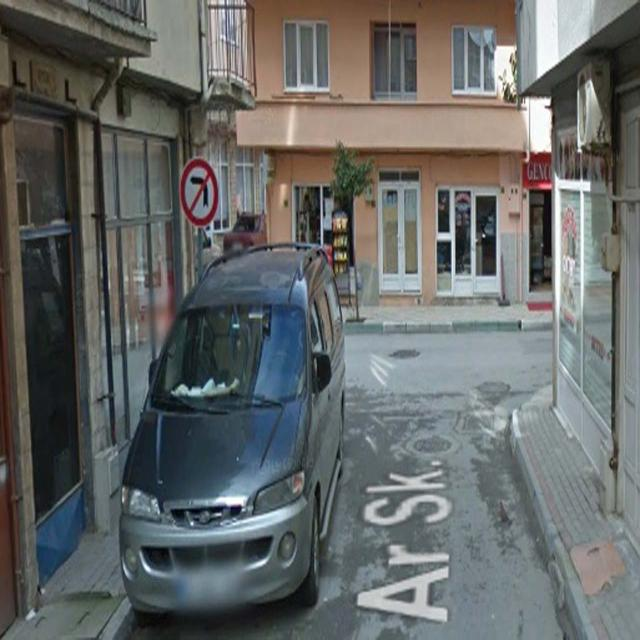soladonulmez: (180, 158, 220, 228)
